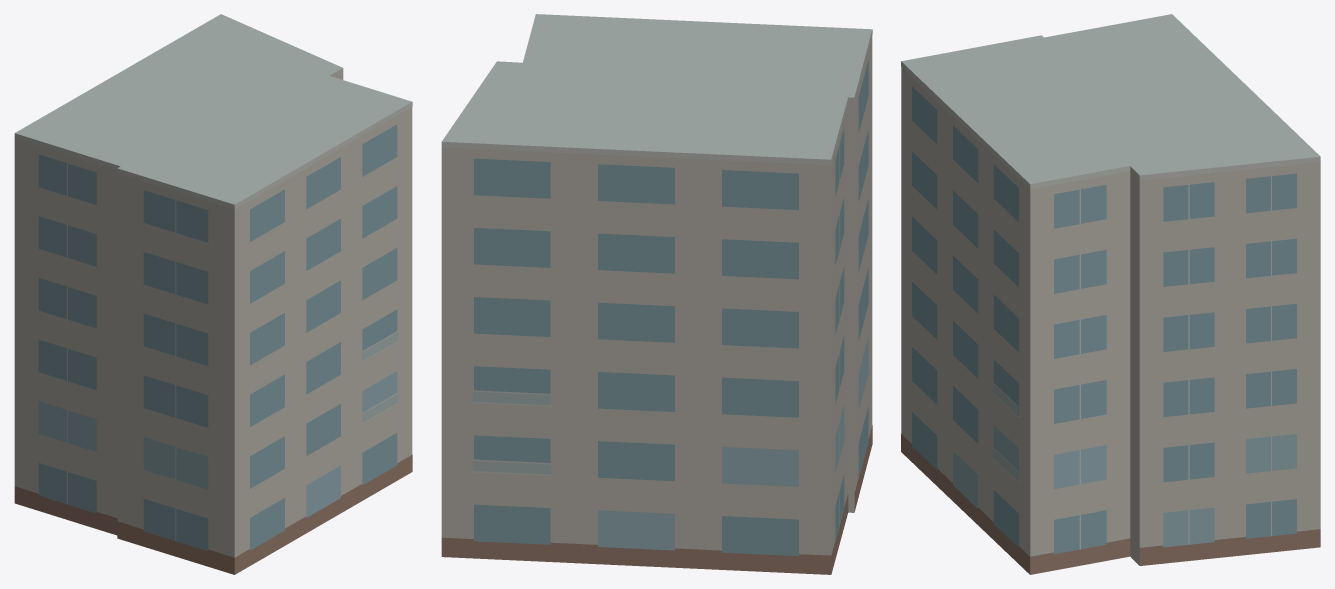
File: survey-upis-32914913.glb
3 renders of one model, left to right at view 1: azimuth 30°, elevation 25°; view 2: azimuth 150°, elevation 25°; view 3: azimuth 270°, elevation 25°, orthographic. The views are drawn at different scales.
Parts seen in each view (by area): view 1: survey-upis-32914913.tmp; view 2: survey-upis-32914913.tmp; view 3: survey-upis-32914913.tmp.
Boxes of the visible parts, x1=… form: survey-upis-32914913.tmp: x1=14, y1=14, x2=412, y2=574; survey-upis-32914913.tmp: x1=441, y1=14, x2=872, y2=574; survey-upis-32914913.tmp: x1=901, y1=14, x2=1320, y2=574.
Size of the model in its own units: 17.11 by 18.3 by 17.83.
